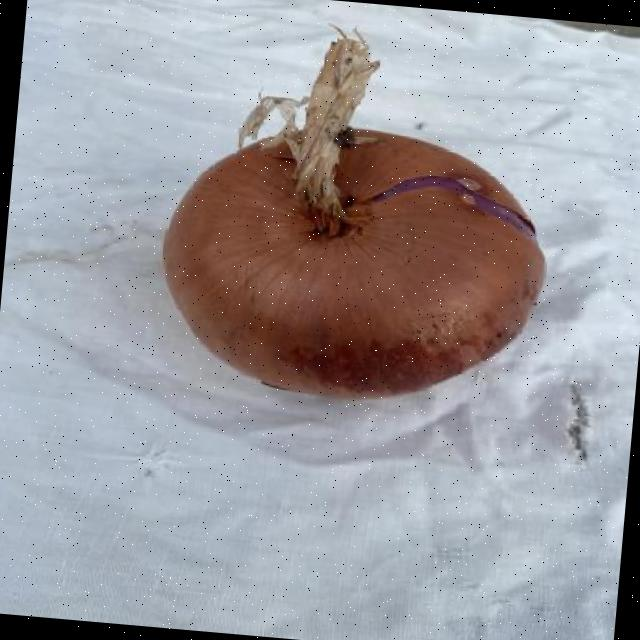Onion: (162, 28, 546, 397)
